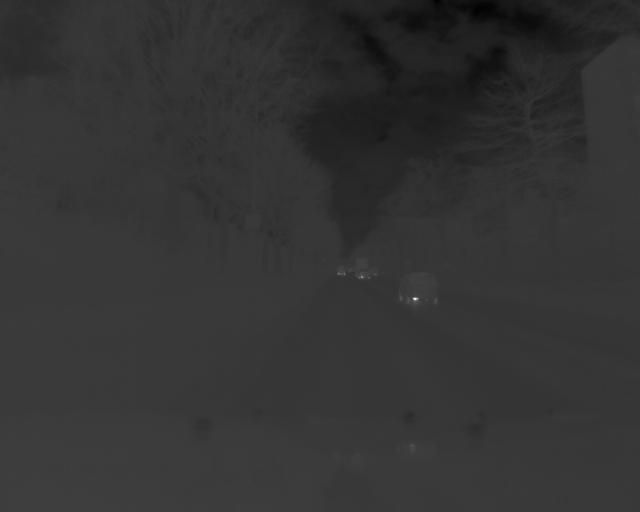car: (394, 271, 441, 308)
